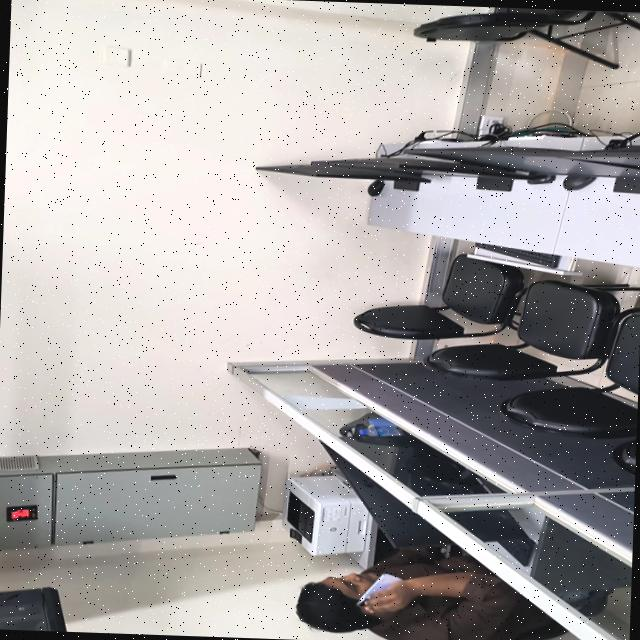Chair: (423, 278, 640, 379), (500, 307, 640, 437), (353, 253, 524, 338), (413, 6, 640, 67), (613, 438, 636, 473)
Keyboard: (475, 241, 560, 266), (496, 536, 535, 565)
Monitor: (404, 146, 640, 192), (312, 156, 516, 190), (256, 161, 430, 190), (557, 146, 640, 166)
Mouse: (562, 174, 596, 189), (367, 179, 384, 195), (527, 174, 554, 182)
